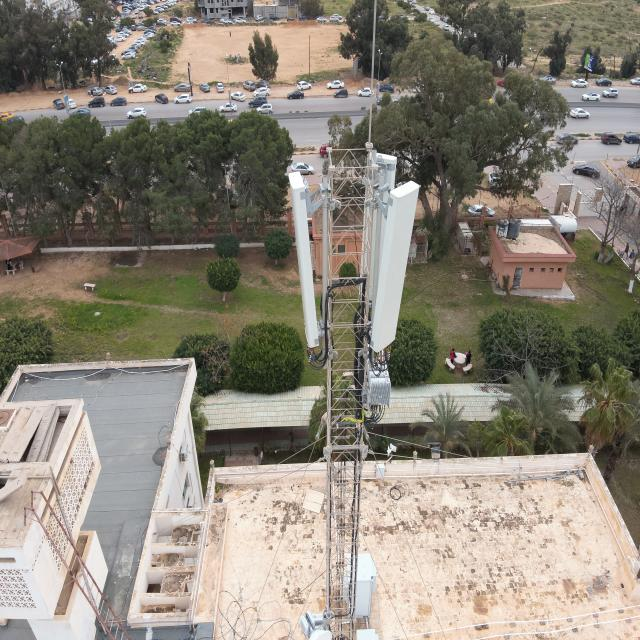antenna: (370, 178, 422, 355), (359, 149, 401, 309), (286, 168, 318, 346)
lighnig-rad: (367, 0, 381, 148)
microware-dish: (298, 608, 331, 640)
power-box: (306, 611, 329, 640)
radio-unit: (363, 345, 397, 412)
